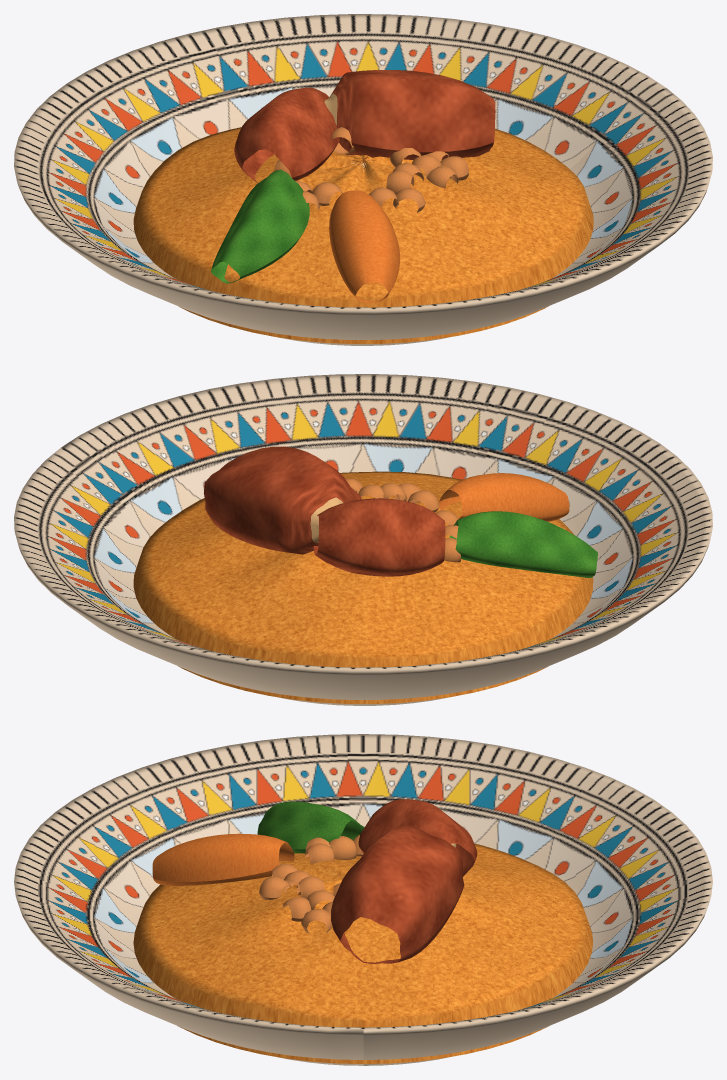
File: Couscous_Plat_060pct.obj
3 views of the same model, one above another, from view 1: azimuth 30°, elevation 25°; view 2: azimuth 150°, elevation 25°; view 3: azimuth 270°, elevation 25° (orthographic).
Parts seen in each view (by area): view 1: 00_Plate_Tebsi_Ceramic, 01_Couscous_Semolina_Mound, 02_Meat_Lamb_Shank_Main, 03_Meat_Braised_Left, 06_Veg_Green_Pepper_Felfel, 07_Veg_Carrot_FrontLeft, 05_Chickpeas_Cluster; view 2: 00_Plate_Tebsi_Ceramic, 01_Couscous_Semolina_Mound, 02_Meat_Lamb_Shank_Main, 03_Meat_Braised_Left, 06_Veg_Green_Pepper_Felfel, 07_Veg_Carrot_FrontLeft, 05_Chickpeas_Cluster; view 3: 00_Plate_Tebsi_Ceramic, 01_Couscous_Semolina_Mound, 02_Meat_Lamb_Shank_Main, 07_Veg_Carrot_FrontLeft, 05_Chickpeas_Cluster, 06_Veg_Green_Pepper_Felfel, 03_Meat_Braised_Left.
Boxes of the visible parts, x1,y1,x2,y2 form: 00_Plate_Tebsi_Ceramic: (14, 14, 712, 345); 01_Couscous_Semolina_Mound: (133, 127, 593, 343); 02_Meat_Lamb_Shank_Main: (324, 70, 495, 164); 03_Meat_Braised_Left: (234, 87, 339, 183); 06_Veg_Green_Pepper_Felfel: (211, 169, 309, 283); 07_Veg_Carrot_FrontLeft: (329, 190, 399, 302); 05_Chickpeas_Cluster: (274, 127, 468, 212); 00_Plate_Tebsi_Ceramic: (14, 374, 712, 705); 01_Couscous_Semolina_Mound: (133, 471, 593, 703); 02_Meat_Lamb_Shank_Main: (204, 446, 361, 554); 03_Meat_Braised_Left: (313, 498, 445, 576); 06_Veg_Green_Pepper_Felfel: (449, 511, 597, 577); 07_Veg_Carrot_FrontLeft: (439, 473, 569, 521); 05_Chickpeas_Cluster: (345, 478, 460, 562); 00_Plate_Tebsi_Ceramic: (14, 734, 712, 1065); 01_Couscous_Semolina_Mound: (133, 843, 592, 1063); 02_Meat_Lamb_Shank_Main: (331, 824, 464, 963); 07_Veg_Carrot_FrontLeft: (152, 833, 294, 885); 05_Chickpeas_Cluster: (259, 835, 363, 933); 06_Veg_Green_Pepper_Felfel: (257, 801, 364, 853); 03_Meat_Braised_Left: (358, 799, 477, 876).
Size of the model in its own units: 0.32 by 0.0846 by 0.32.
1 material, 1 textured.
